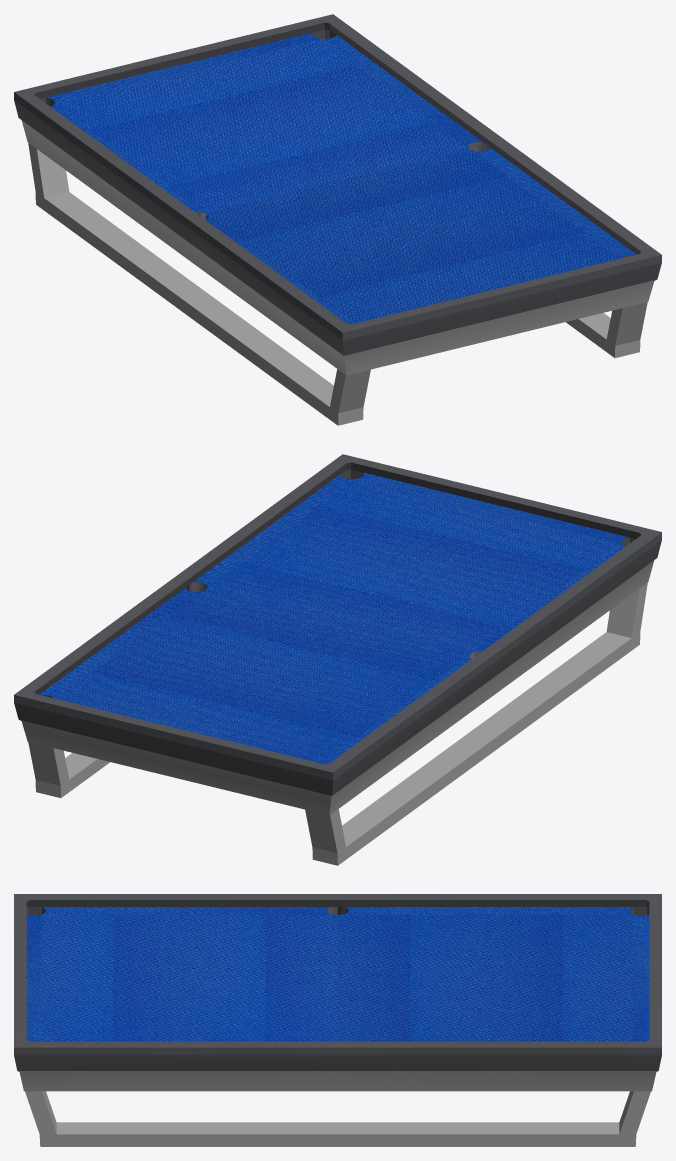
Rendered from PoolTable.fbx.
3 views of the same model, one above another, from view 1: azimuth 30°, elevation 25°; view 2: azimuth 150°, elevation 25°; view 3: azimuth 270°, elevation 25° (orthographic).
Parts seen in each view (by area): view 1: pCube3; view 2: pCube3; view 3: pCube3.
Part boxes in pixels (x1,y1,x2,y2): pCube3: (14, 14, 661, 425); pCube3: (14, 454, 661, 865); pCube3: (14, 894, 661, 1146).
Size of the model in its own units: 5.49 by 1.72 by 9.79.
